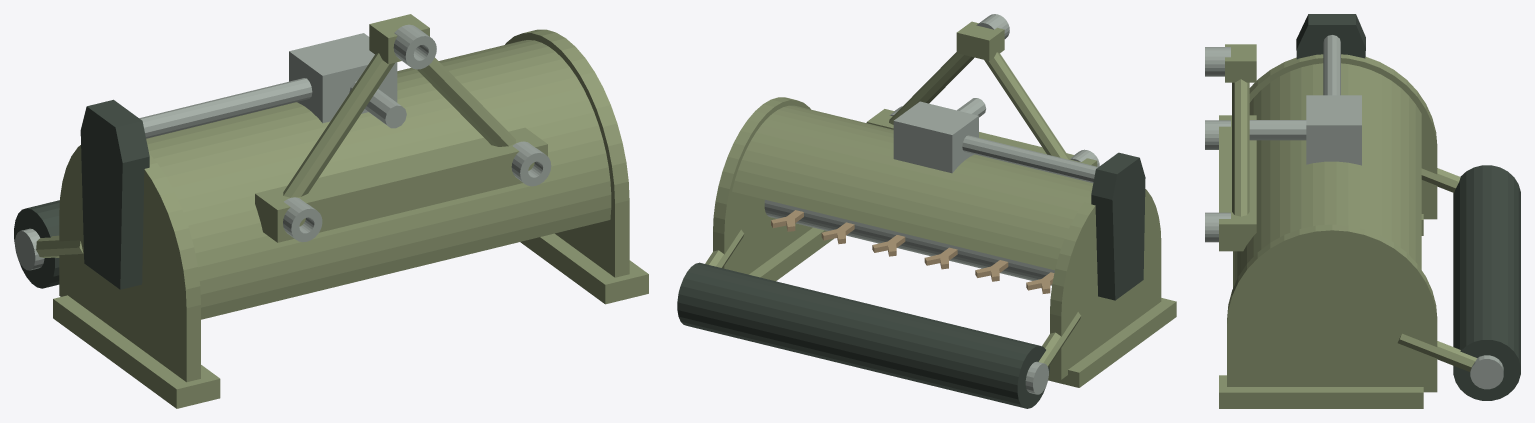
3 renders of one model, left to right at view 1: azimuth 30°, elevation 25°; view 2: azimuth 150°, elevation 25°; view 3: azimuth 270°, elevation 25°, orthographic. The views are drawn at different scales.
Parts seen in each view (by area): view 1: WholeRearCutawayCurvedHood, WholeCurvedRotorEndCheek-1, WholeFrontAttachmentCrossBar, WholeClosedOuterSideDriveCover, WholeCurvedRotorEndCheek1, WholeBroadGroundSkid-1, WholeUpperGearboxExterior, WholeLateralDriveShaft, WholeRaisedTriangularAttachmentArm-1, WholeBroadGroundSkid1, WholeRaisedTriangularAttachmentArm1, WholeGroundedRearSupportRoller (+7 smaller); view 2: WholeRearCutawayCurvedHood, WholeGroundedRearSupportRoller, WholeCurvedRotorEndCheek-1, WholeClosedOuterSideDriveCover, WholeCurvedRotorEndCheek1, WholeUpperGearboxExterior, WholeTransverseFlailRotor, WholeBroadGroundSkid-1, WholeLateralDriveShaft, WholeRaisedTriangularAttachmentArm-1, WholeBroadGroundSkid1, WholeUpperAttachmentJoin (+5 smaller); view 3: WholeCurvedRotorEndCheek1, WholeRearCutawayCurvedHood, WholeGroundedRearSupportRoller, WholeBroadGroundSkid1, WholeUpperGearboxExterior, WholeCurvedRotorEndCheek-1, WholeFrontAttachmentCrossBar, WholeRaisedTriangularAttachmentArm1, WholeClosedOuterSideDriveCover, WholeForwardInputStub, WholeUpperAttachmentJoin, WholeRearRollerSupportArm1 (+6 smaller).
Part boxes in pixels (<box>): WholeRearCutawayCurvedHood: <box>146,40,611,319</box>; WholeCurvedRotorEndCheek-1: <box>59,145,200,382</box>; WholeFrontAttachmentCrossBar: <box>255,127,547,242</box>; WholeClosedOuterSideDriveCover: <box>80,99,149,289</box>; WholeCurvedRotorEndCheek1: <box>505,29,629,277</box>; WholeBroadGroundSkid-1: <box>53,295,220,408</box>; WholeUpperGearboxExterior: <box>289,33,397,123</box>; WholeLateralDriveShaft: <box>139,78,312,138</box>; WholeRaisedTriangularAttachmentArm-1: <box>283,53,394,197</box>; WholeBroadGroundSkid1: <box>520,233,648,304</box>; WholeRaisedTriangularAttachmentArm1: <box>417,58,515,146</box>; WholeGroundedRearSupportRoller: <box>14,200,59,288</box>; WholeRearCutawayCurvedHood: <box>732,105,1093,270</box>; WholeGroundedRearSupportRoller: <box>677,262,1049,408</box>; WholeCurvedRotorEndCheek-1: <box>1050,189,1161,379</box>; WholeClosedOuterSideDriveCover: <box>1091,152,1145,300</box>; WholeCurvedRotorEndCheek1: <box>713,97,812,274</box>; WholeUpperGearboxExterior: <box>893,101,978,173</box>; WholeTransverseFlailRotor: <box>764,199,1054,285</box>; WholeBroadGroundSkid-1: <box>1048,298,1176,387</box>; WholeLateralDriveShaft: <box>962,135,1098,182</box>; WholeRaisedTriangularAttachmentArm-1: <box>984,52,1070,160</box>; WholeBroadGroundSkid1: <box>749,227,833,281</box>; WholeUpperAttachmentJoin: <box>956,21,1004,60</box>; WholeCurvedRotorEndCheek1: <box>1227,224,1437,392</box>; WholeRearCutawayCurvedHood: <box>1233,63,1421,287</box>; WholeGroundedRearSupportRoller: <box>1453,165,1520,400</box>; WholeBroadGroundSkid1: <box>1219,375,1423,408</box>; WholeUpperGearboxExterior: <box>1306,95,1361,165</box>; WholeCurvedRotorEndCheek-1: <box>1249,54,1437,219</box>; WholeFrontAttachmentCrossBar: <box>1219,115,1256,251</box>; WholeRaisedTriangularAttachmentArm1: <box>1232,79,1249,216</box>; WholeClosedOuterSideDriveCover: <box>1296,14,1365,59</box>; WholeForwardInputStub: <box>1249,120,1306,140</box>; WholeUpperAttachmentJoin: <box>1225,44,1256,82</box>; WholeRearRollerSupportArm1: <box>1397,333,1476,371</box>.
Size of the model in its own units: 2.31 by 1.48 by 1.59.
